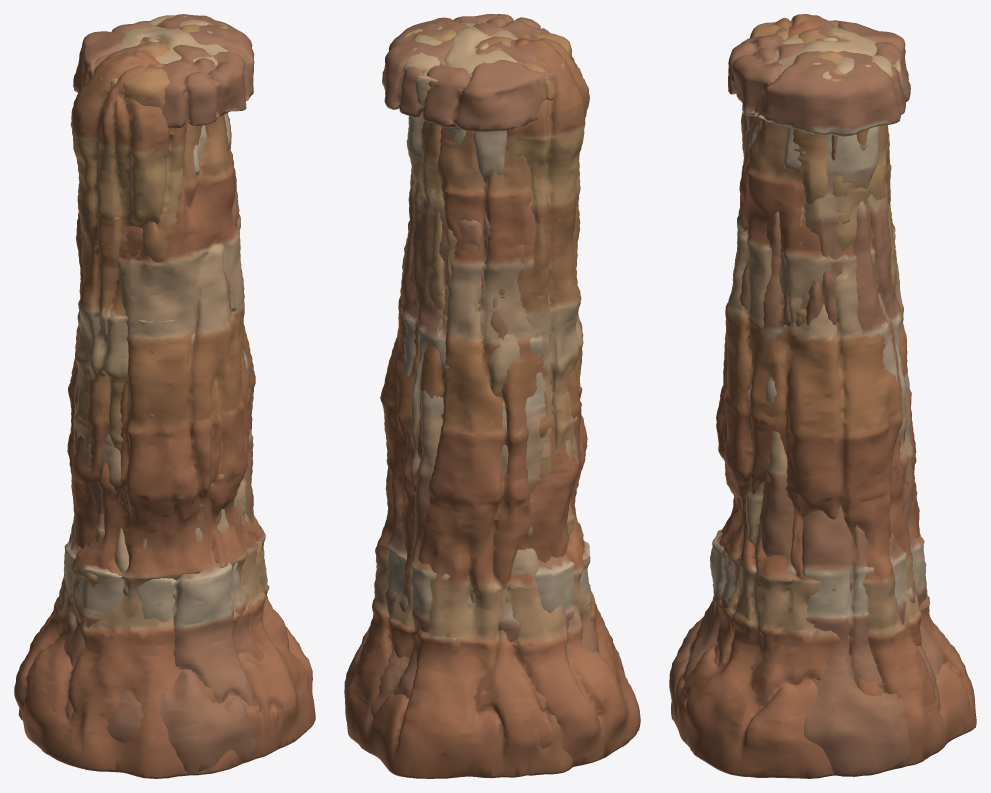
File: rocks_spires_hi.glb
3 renders of one model, left to right at view 1: azimuth 30°, elevation 25°; view 2: azimuth 150°, elevation 25°; view 3: azimuth 270°, elevation 25°, orthographic.
Visible parts, largest first — view 1: spire5_lod0, spire2_lod0, spire7_lod0, spire0_lod0, spire4_lod0; view 2: spire5_lod0, spire2_lod0, spire7_lod0, spire0_lod0, spire4_lod0; view 3: spire5_lod0, spire2_lod0, spire0_lod0, spire7_lod0, spire4_lod0.
Part boxes in pixels (x1,y1,x2,y2): spire5_lod0: (14,40,315,778); spire2_lod0: (59,14,259,775); spire7_lod0: (18,50,201,720); spire0_lod0: (115,15,248,610); spire4_lod0: (82,40,182,555); spire5_lod0: (345,39,640,778); spire2_lod0: (344,14,623,720); spire7_lod0: (470,38,589,775); spire0_lod0: (403,23,518,641); spire4_lod0: (480,31,574,534); spire5_lod0: (671,38,976,778); spire2_lod0: (669,18,945,776); spire0_lod0: (738,28,905,546); spire7_lod0: (741,14,822,163); spire4_lod0: (750,21,840,42).
Size of what is drawn, in the model's own units: 43.07 by 110 by 44.29.
